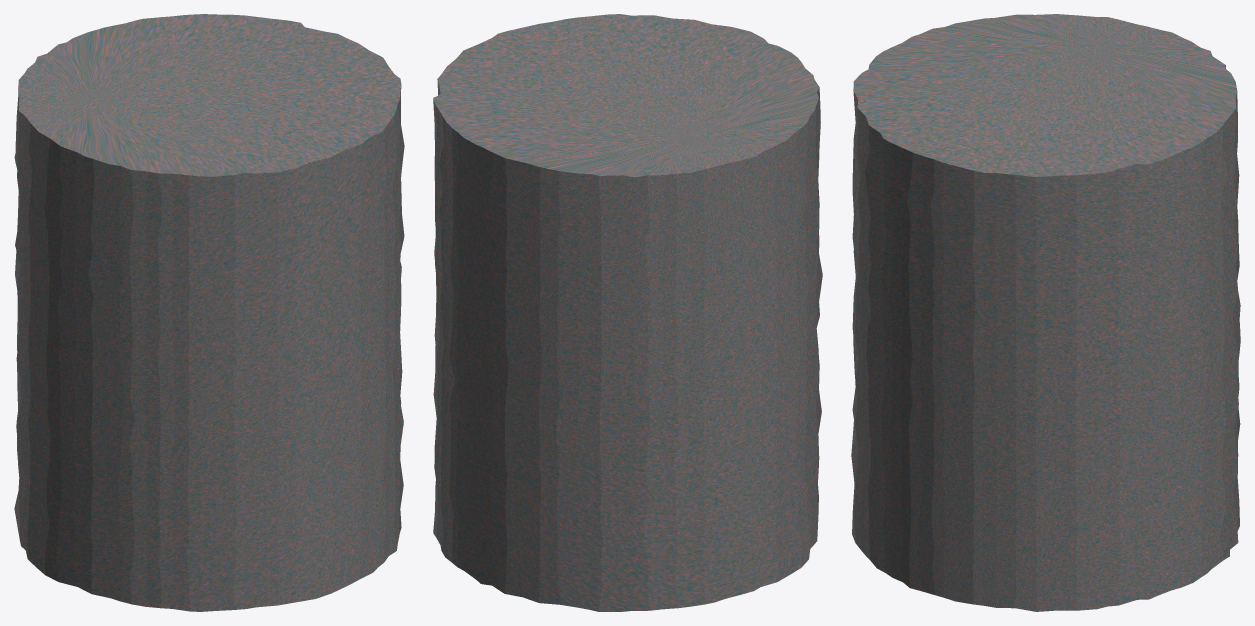
File: barrel_33.dae
3 renders of one model, left to right at view 1: azimuth 30°, elevation 25°; view 2: azimuth 150°, elevation 25°; view 3: azimuth 270°, elevation 25°, orthographic.
Parts seen in each view (by area): view 1: Cylinder; view 2: Cylinder; view 3: Cylinder.
Part boxes in pixels (bbox=[...]): Cylinder: bbox=[14, 14, 404, 611]; Cylinder: bbox=[433, 14, 822, 611]; Cylinder: bbox=[851, 14, 1240, 611].
Bounding box in the file's own units: 0.8168 × 0.8111 × 1.
Materials: 1 (1 with a texture image).
